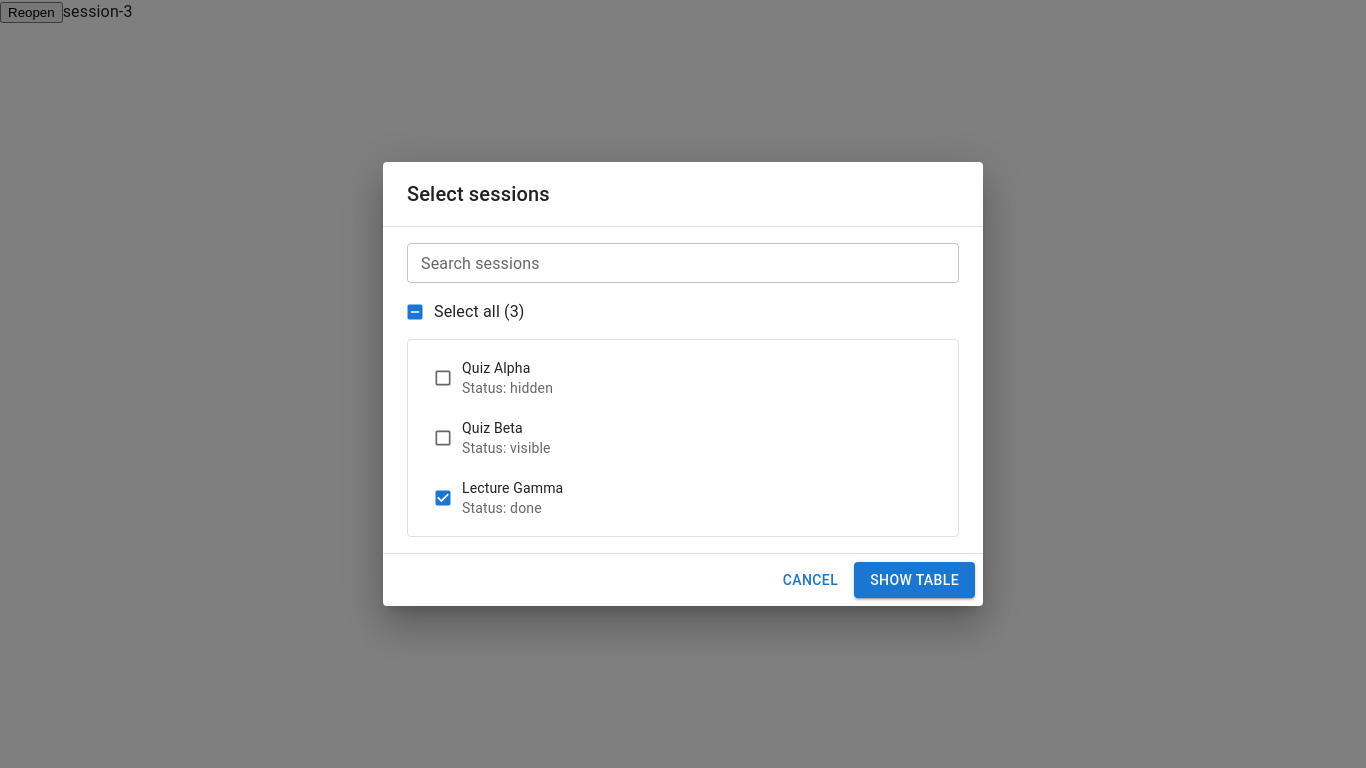
SessionSelectorDialog › selects only filtered sessions when select-all is used
Type "Quiz" into the field labelled "Search sessions" at [683, 263], box [407,243,959,283]
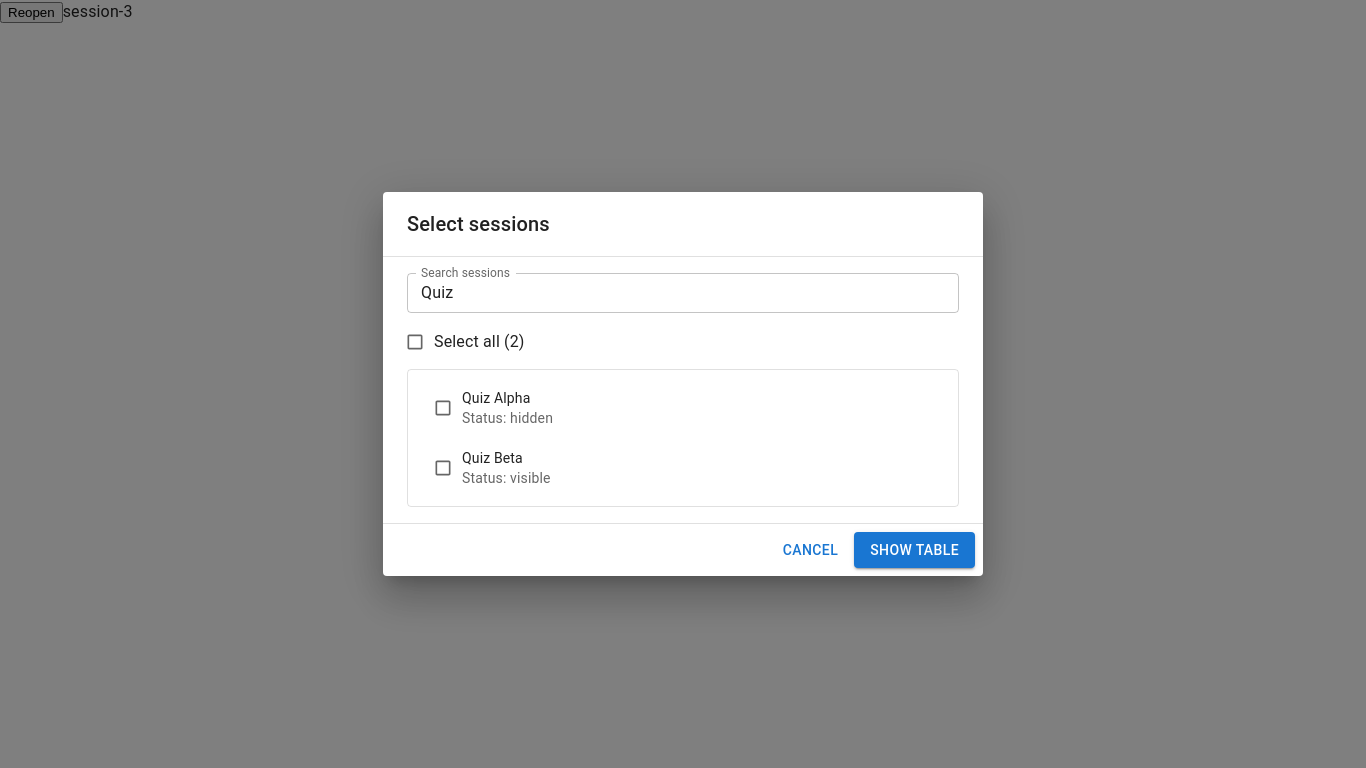
Expected: the text "Quiz Alpha" is shown, [462,390,530,406]
Expected: the button "Lecture Gamma" is gone
Click the 1st checkbox labelled "Select all (2)" at [465, 342], box [405,332,524,352]
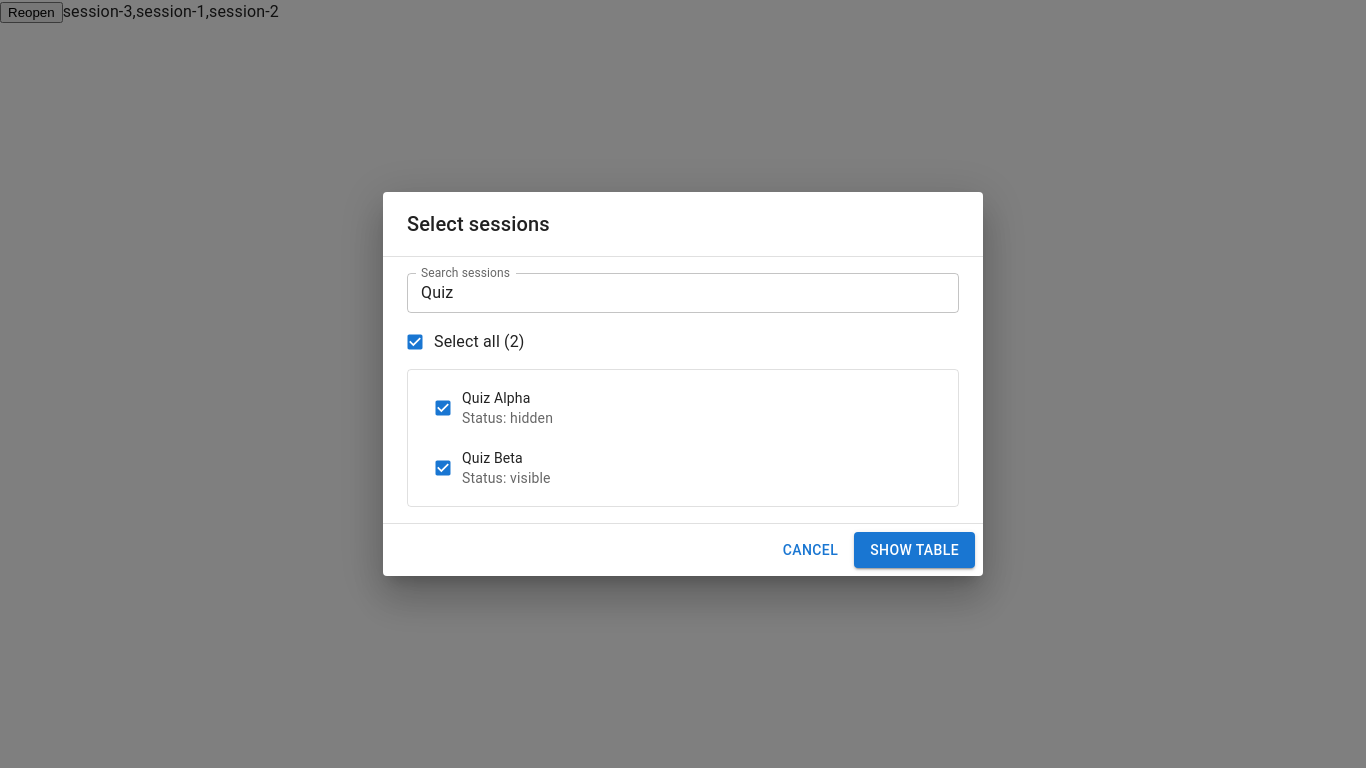
Expected: the text with test id "selected-ids" reads "session-3,session-1,session-2", [63,2,279,21]
